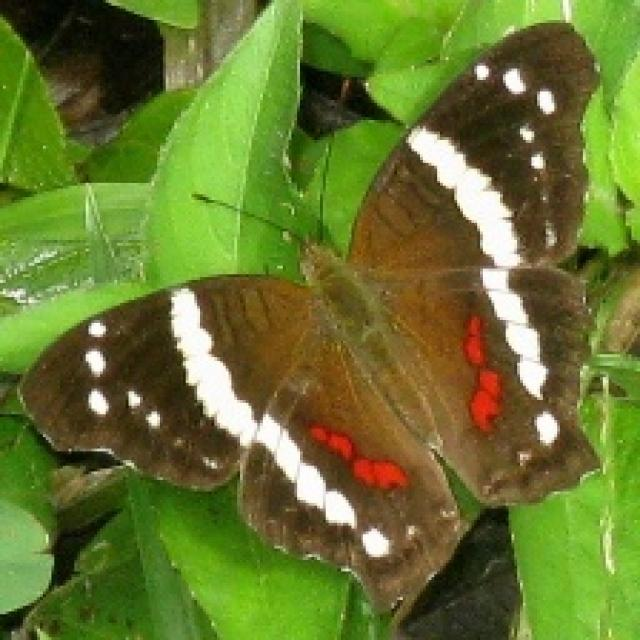butterfly: (14, 17, 603, 623)
